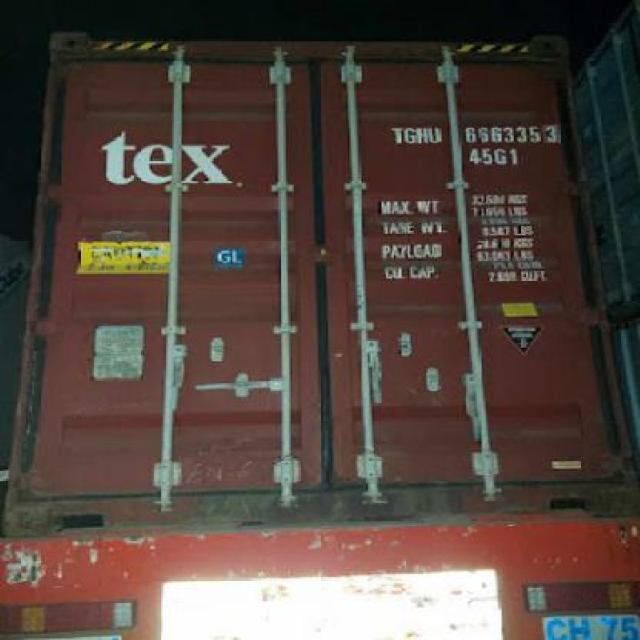ISO: (468, 148, 522, 166)
container_number: (392, 123, 561, 145)
